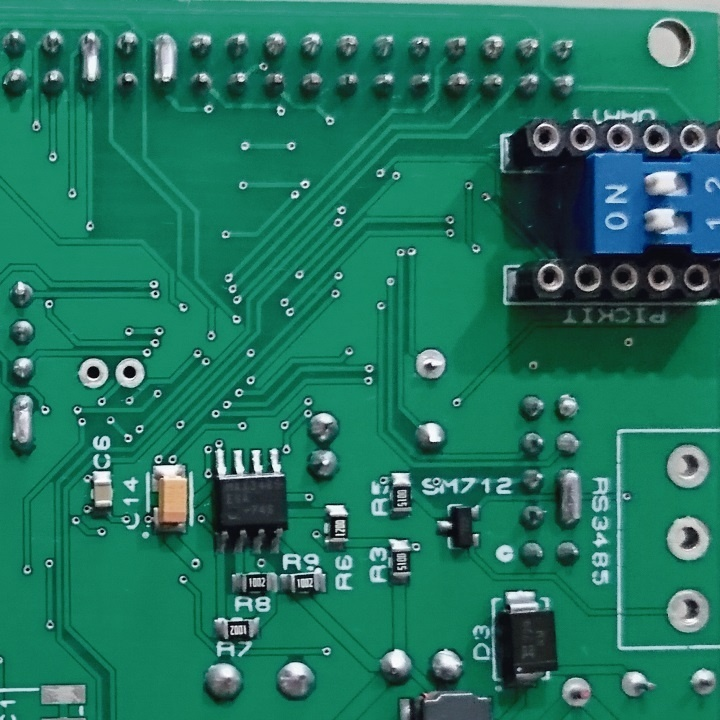F: (664, 513, 714, 564), (661, 441, 711, 491), (664, 585, 711, 635), (411, 344, 450, 386), (618, 666, 658, 703), (114, 352, 150, 392), (77, 353, 111, 394), (559, 675, 596, 709), (685, 665, 720, 700)
P: (147, 26, 184, 100), (4, 389, 41, 461), (554, 463, 587, 532), (76, 26, 107, 98)
